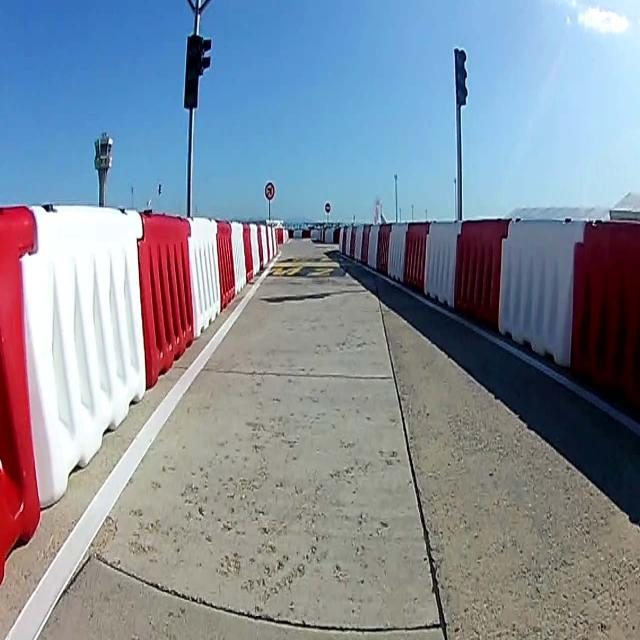soladonulmez: (264, 180, 276, 201)
